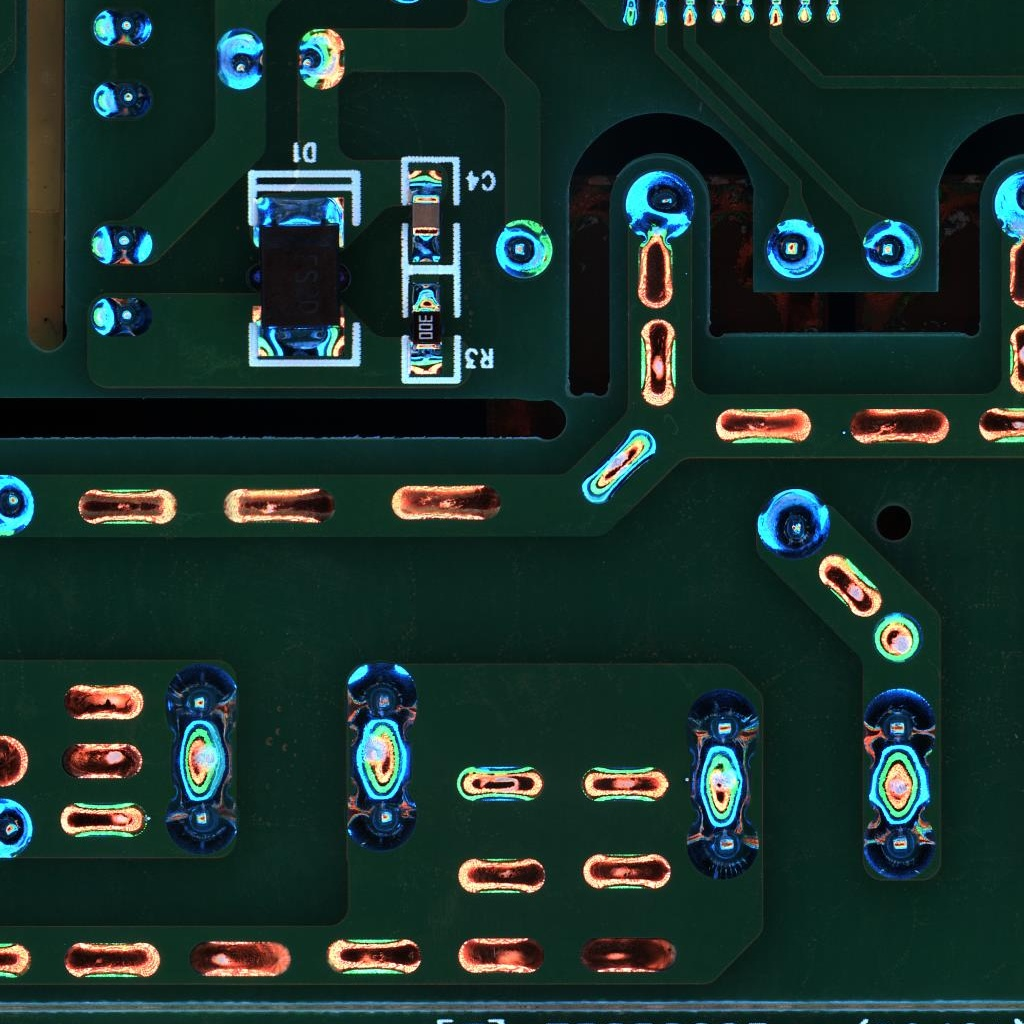spot: (859, 685, 939, 765), (684, 688, 762, 764), (621, 165, 696, 244), (753, 485, 832, 560), (343, 661, 420, 736), (162, 781, 242, 853), (860, 812, 940, 882), (165, 662, 240, 736), (685, 812, 762, 883), (343, 781, 419, 847), (762, 215, 827, 282), (860, 215, 923, 281), (210, 24, 268, 92), (493, 218, 555, 280), (294, 26, 349, 91), (88, 292, 155, 339), (88, 223, 156, 267), (88, 6, 158, 48), (870, 610, 922, 665), (90, 78, 157, 119), (1, 472, 38, 538), (1, 794, 36, 861)
